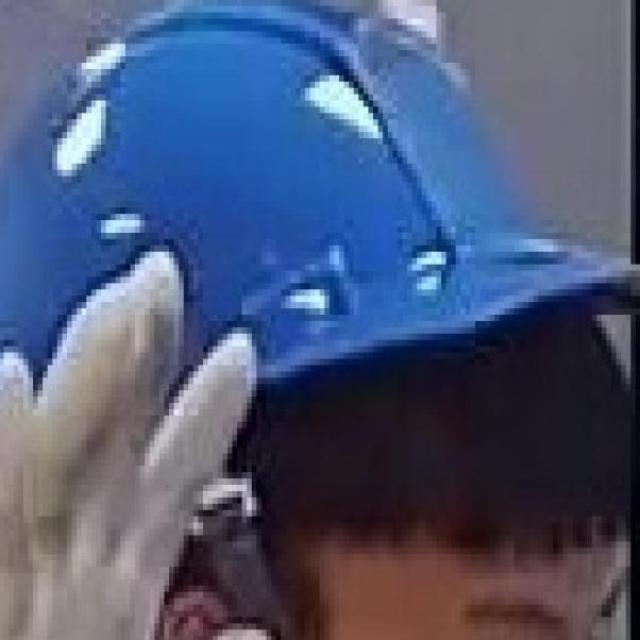blue helmet: (0, 1, 640, 417)
